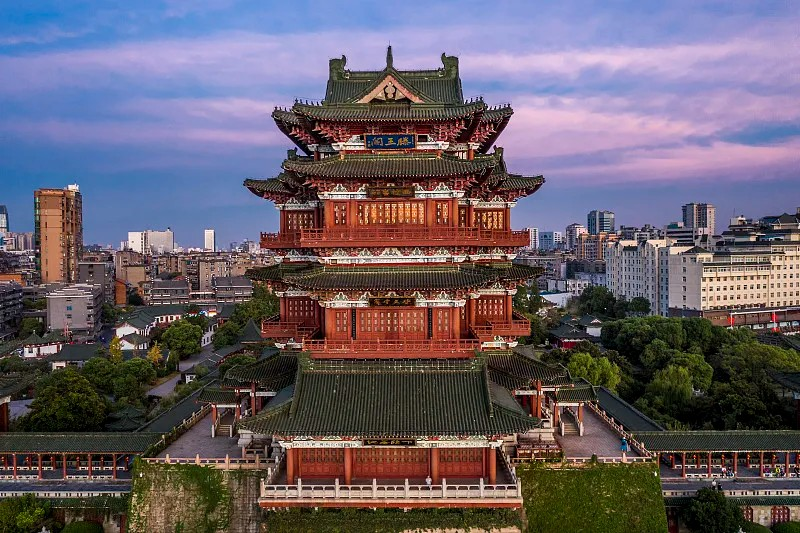Teng: (243, 42, 566, 488)
